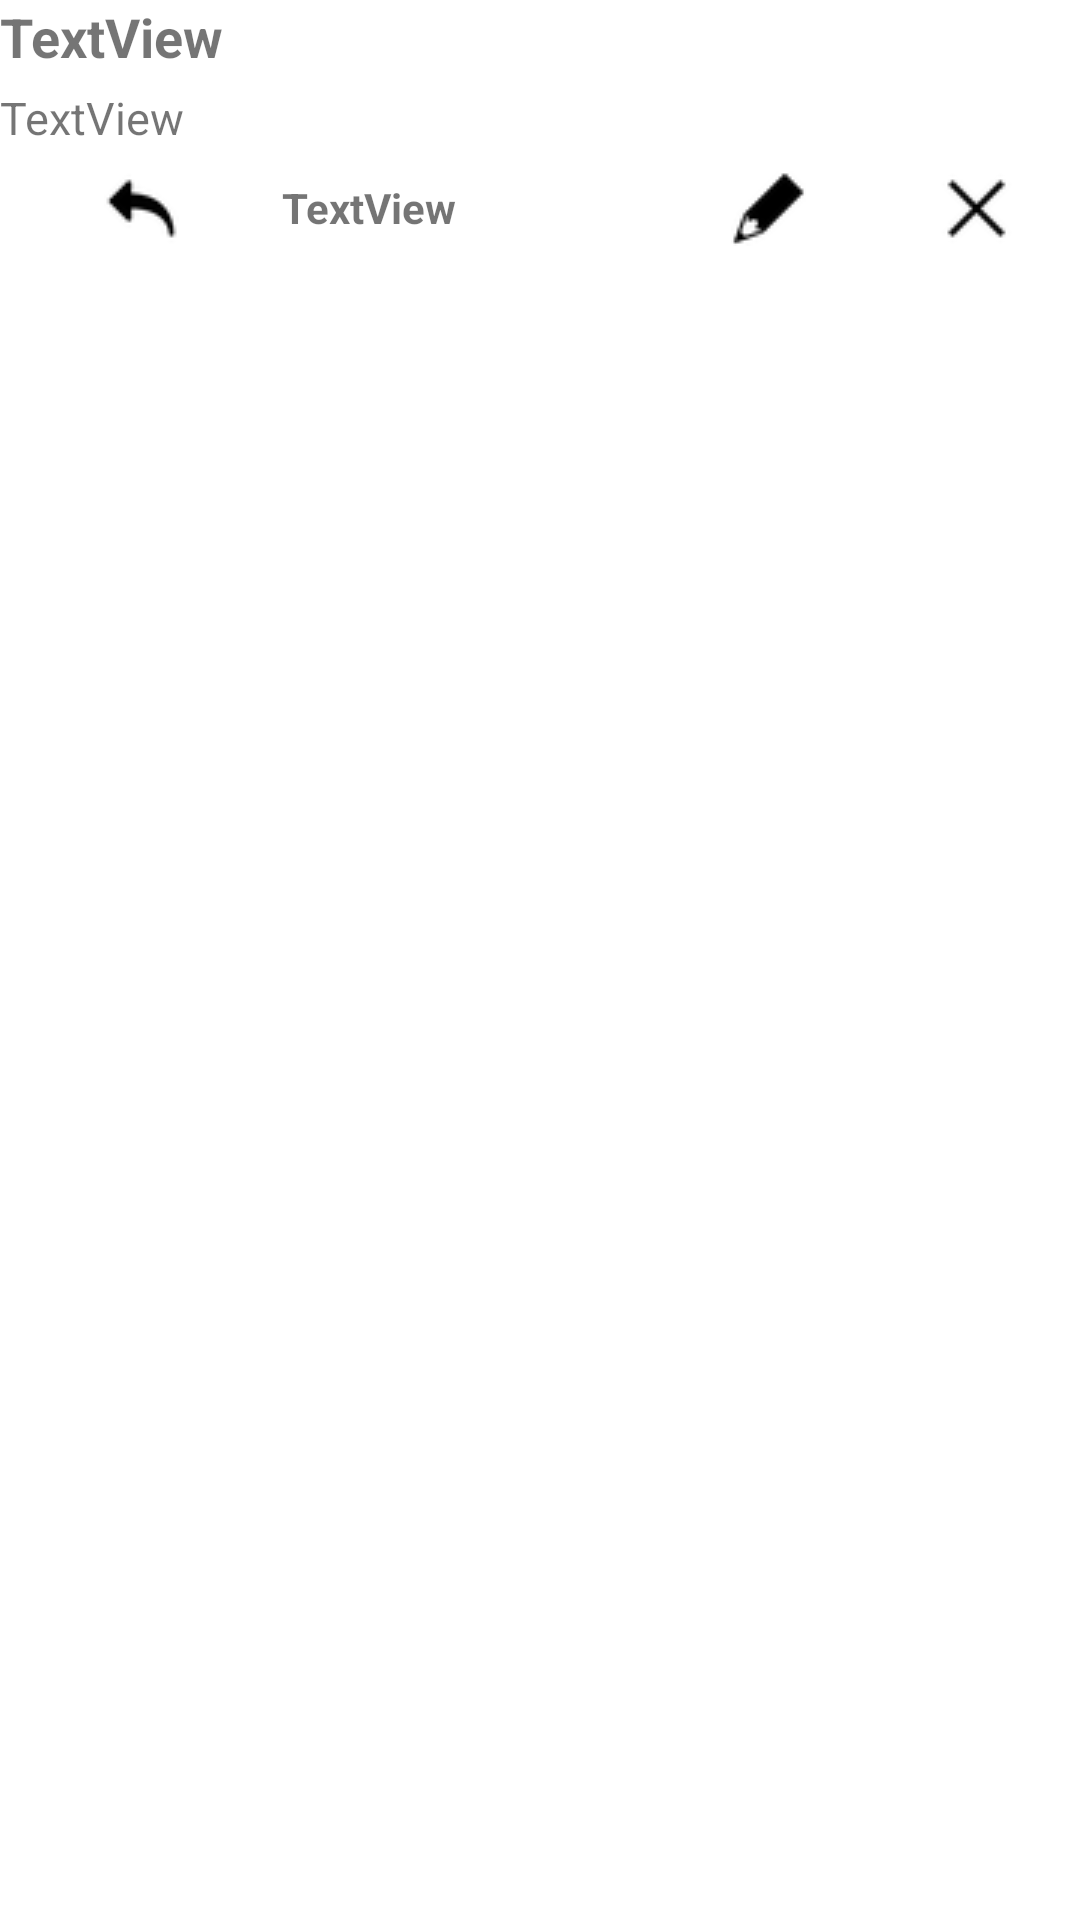

Where to tap for icons on this 1080px×1920px app screen, as (x=x, y=y):
questdelete: (x=976, y=208)
questedit: (x=768, y=208)
questreply: (x=142, y=208)
